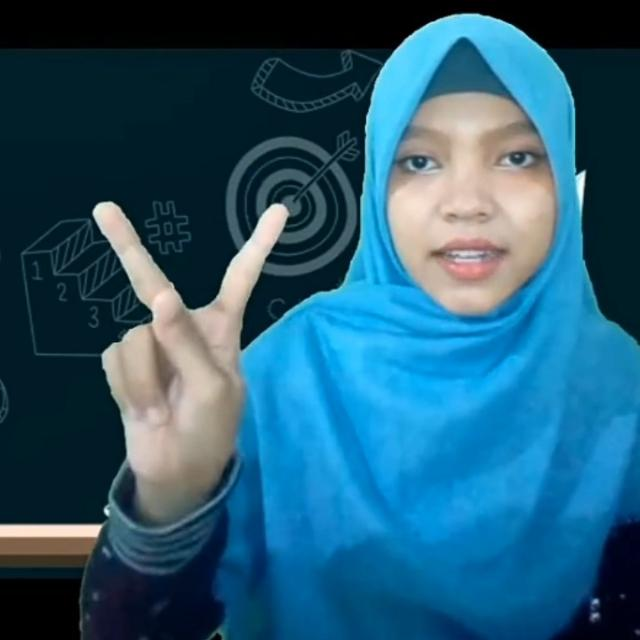K: (93, 198, 290, 490)
